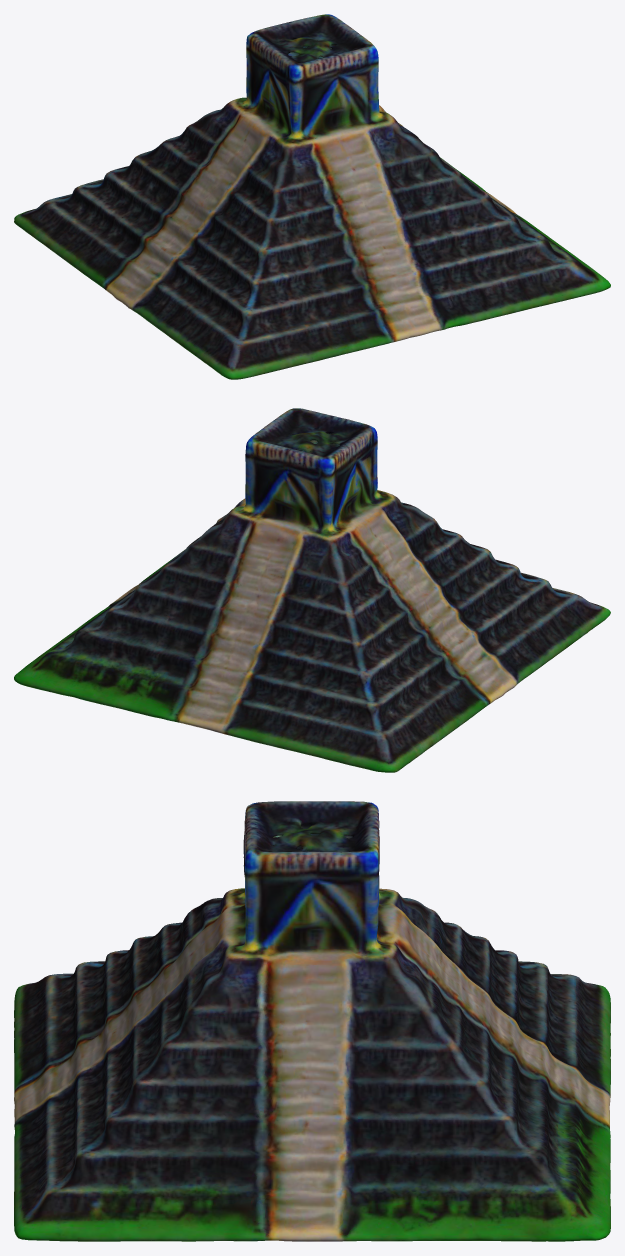
The model's file is df28e7a4d975_create_a_piramid_fo.fbx.
3 renders of one model, top to bottom at view 1: azimuth 30°, elevation 25°; view 2: azimuth 150°, elevation 25°; view 3: azimuth 270°, elevation 25°, orthographic. The views are drawn at different scales.
Visible parts, largest first — view 1: high_poly; view 2: high_poly; view 3: high_poly.
Boxes of the visible parts, x1,y1,x2,y2 form: high_poly: [14, 14, 610, 379]; high_poly: [14, 408, 610, 772]; high_poly: [14, 801, 610, 1241].
Size of the model in its own units: 100 by 53.67 by 99.73.
